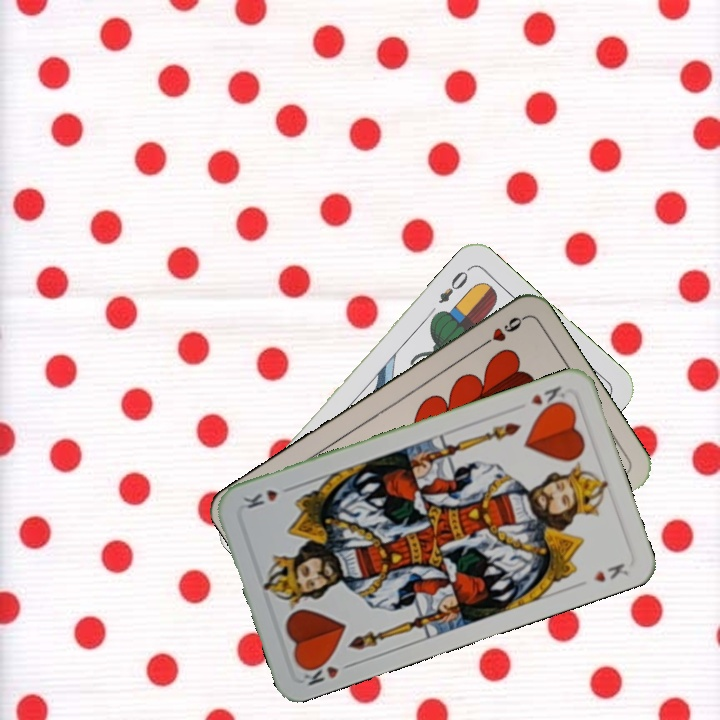EO: (434, 263, 473, 307)
H9: (475, 312, 528, 351)
HK: (296, 654, 357, 689), (526, 381, 569, 414)
